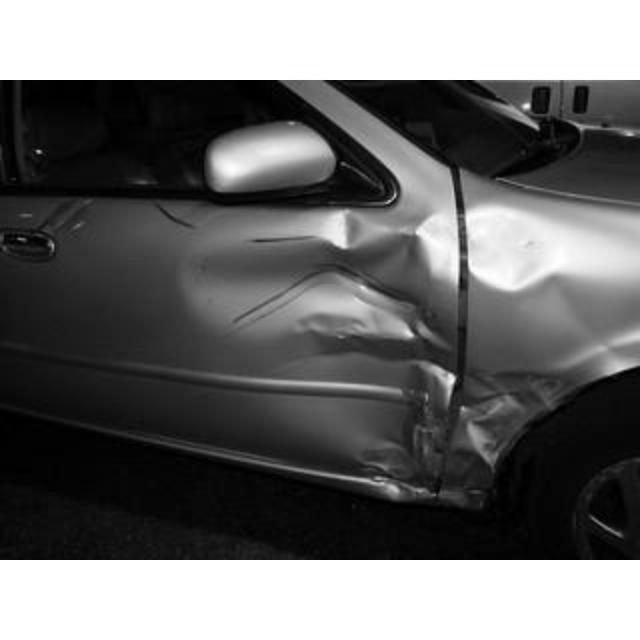doorouter-dent: (86, 198, 462, 512)
fender-dent: (454, 174, 638, 492)
